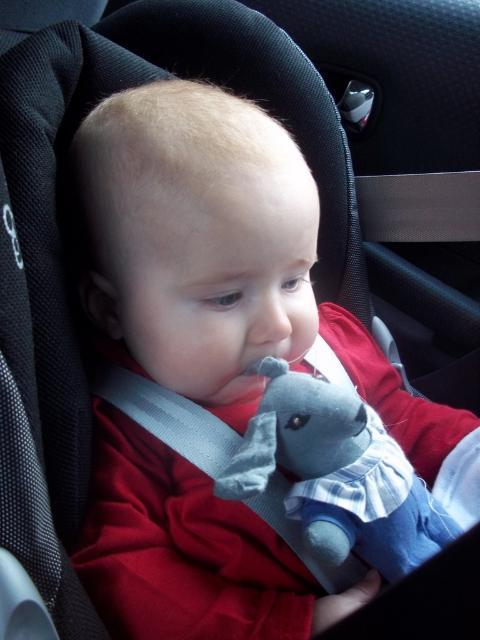SafeDriving: (186, 275, 254, 316), (270, 256, 316, 298)
Seatbelt: (92, 332, 364, 594), (359, 170, 479, 248)
